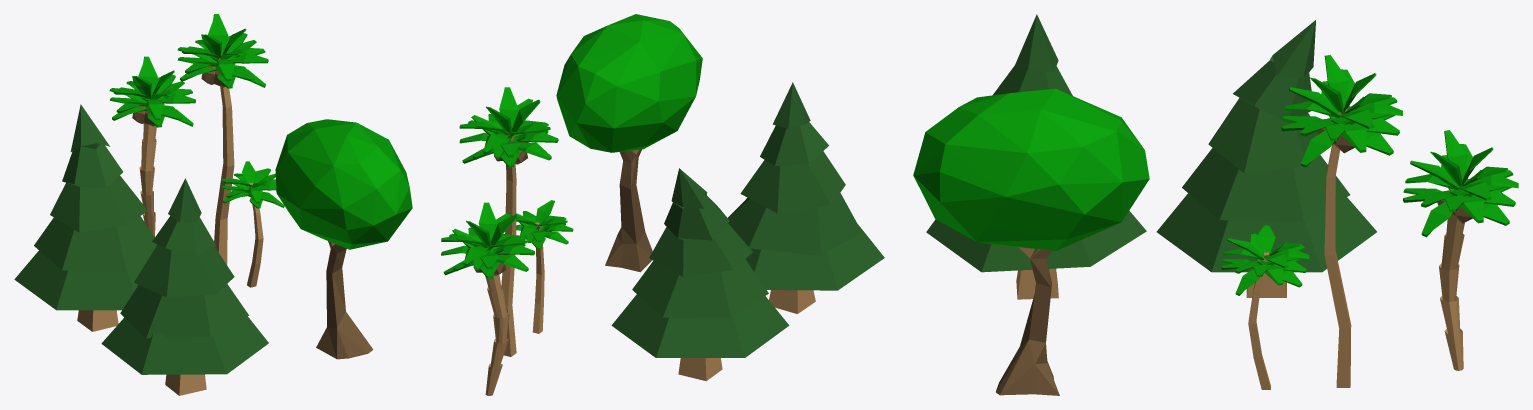
Rendered from Trees2.fbx.
The picture shows the model from 3 angles, left to right: view 1: azimuth 30°, elevation 25°; view 2: azimuth 150°, elevation 25°; view 3: azimuth 270°, elevation 25°; orthographic projection. The views are drawn at different scales.
Visible parts, largest first — view 1: Evergreen Straight, Tree Deciduous 5, Evergreen Tilted, Palm Tree 2, Palm Tree 3, Palm Tree 1; view 2: Evergreen Tilted, Tree Deciduous 5, Evergreen Straight, Palm Tree 2, Palm Tree 3, Palm Tree 1; view 3: Tree Deciduous 5, Evergreen Tilted, Palm Tree 2, Palm Tree 3, Evergreen Straight, Palm Tree 1.
Part boxes in pixels (bbox=[...]): Evergreen Straight: bbox=[101, 178, 268, 395]; Tree Deciduous 5: bbox=[275, 119, 412, 359]; Evergreen Tilted: bbox=[14, 104, 157, 331]; Palm Tree 2: bbox=[177, 14, 268, 264]; Palm Tree 3: bbox=[109, 56, 195, 237]; Palm Tree 1: bbox=[221, 161, 284, 287]; Evergreen Tilted: bbox=[611, 168, 789, 381]; Tree Deciduous 5: bbox=[556, 14, 702, 272]; Evergreen Straight: bbox=[728, 82, 884, 313]; Palm Tree 2: bbox=[459, 87, 558, 356]; Palm Tree 3: bbox=[441, 202, 534, 395]; Palm Tree 1: bbox=[505, 200, 573, 333]; Tree Deciduous 5: bbox=[913, 88, 1149, 395]; Evergreen Tilted: bbox=[1156, 20, 1376, 297]; Palm Tree 2: bbox=[1281, 54, 1402, 387]; Palm Tree 3: bbox=[1403, 130, 1518, 370]; Evergreen Straight: bbox=[926, 14, 1146, 299]; Palm Tree 1: bbox=[1221, 225, 1309, 389].
Size of the model in its own units: 10.9 by 9.17 by 15.78.
